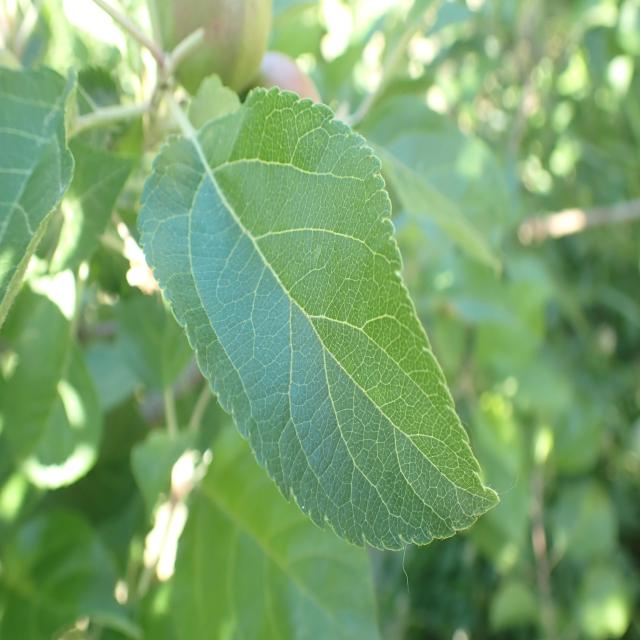healthy: (136, 86, 517, 551), (0, 62, 77, 329)
